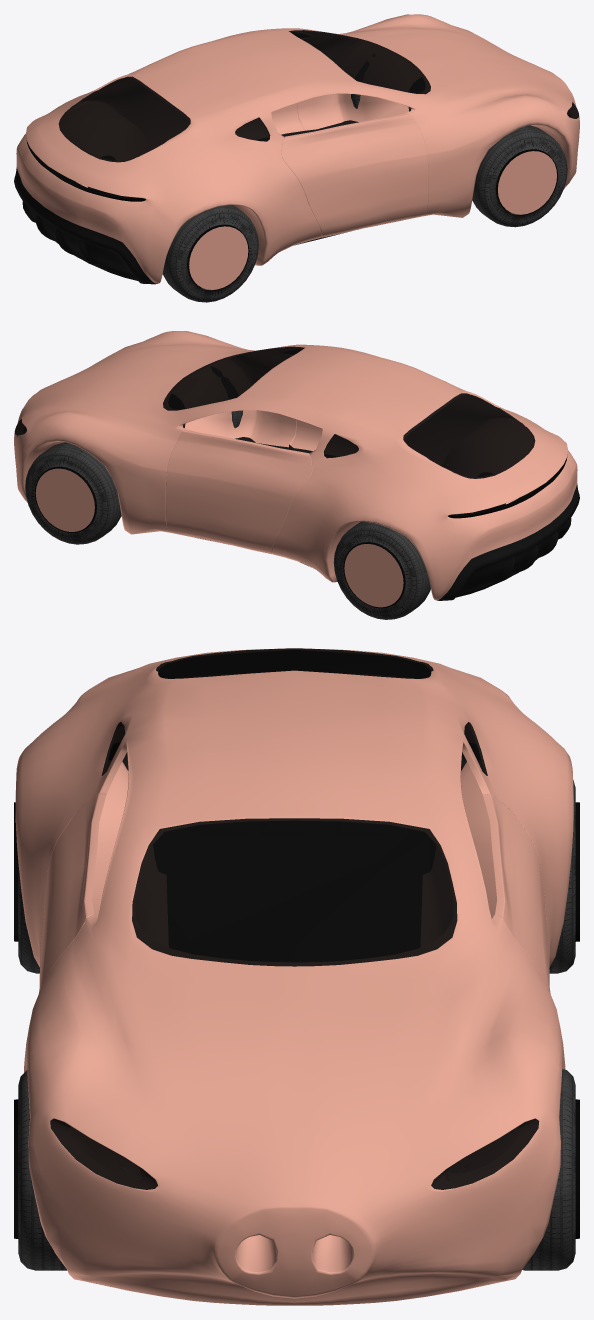
File: car.glb
The picture shows the model from 3 angles, top to bottom: view 1: azimuth 30°, elevation 25°; view 2: azimuth 150°, elevation 25°; view 3: azimuth 270°, elevation 25°; orthographic projection. The views are drawn at different scales.
Parts seen in each view (by area): view 1: Car, Tire_R_F, Tire_R_B, BackLights; view 2: Car, Tire_L_F, Tire_L_B, BackLights; view 3: Car, Tire_L_F, Tire_R_F, Tire_L_B, Tire_R_B.
Part boxes in pixels (x1,y1,x2,y2): Car: [14, 14, 579, 284]; Tire_R_F: [472, 125, 567, 227]; Tire_R_B: [162, 205, 258, 302]; BackLights: [26, 138, 145, 201]; Car: [14, 331, 579, 600]; Tire_L_F: [25, 442, 121, 544]; Tire_L_B: [333, 521, 430, 619]; BackLights: [448, 457, 567, 518]; Car: [15, 648, 573, 1305]; Tire_L_F: [522, 1069, 579, 1270]; Tire_R_F: [14, 1070, 67, 1270]; Tire_L_B: [549, 780, 579, 973]; Tire_R_B: [14, 802, 39, 973].
Bounding box in the file's own units: 9.41 × 2.88 × 4.52.
6 materials, 1 textured.
